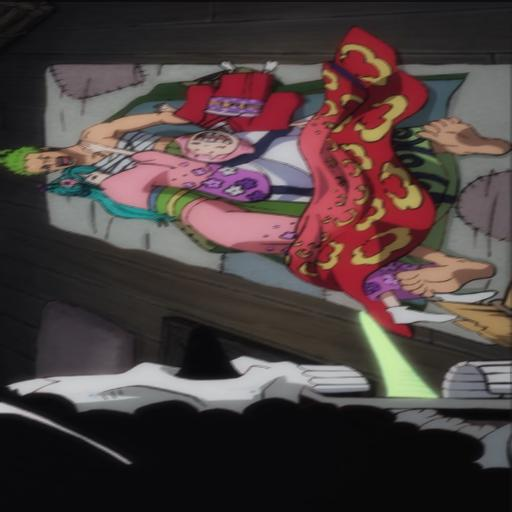Zoro: (0, 101, 489, 194)
